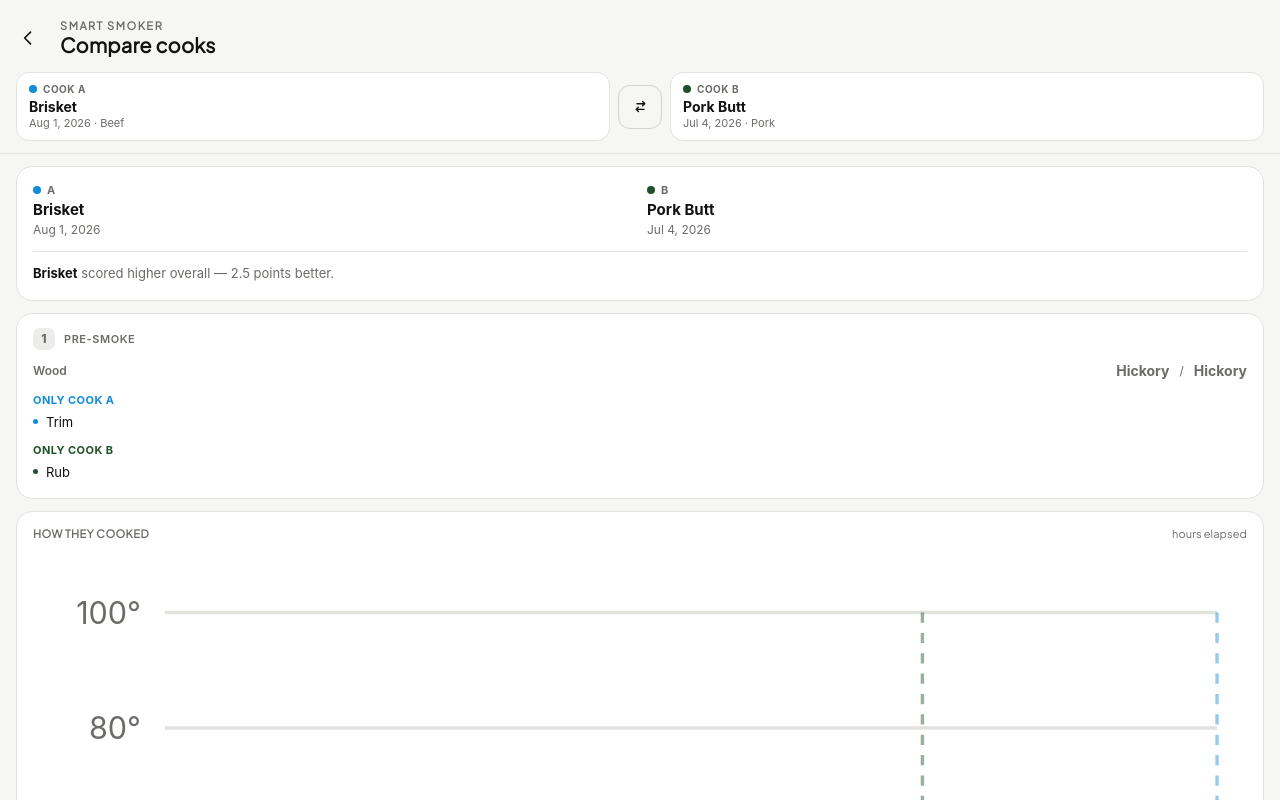
it: CompareScreen › picking the cook already in the slot changes nothing
Expected: the element with test id "compare-summary" is shown, [16,166,1264,300]
Click the button with aria-label "Change cook A" at [60, 89], box [16,72,610,141]
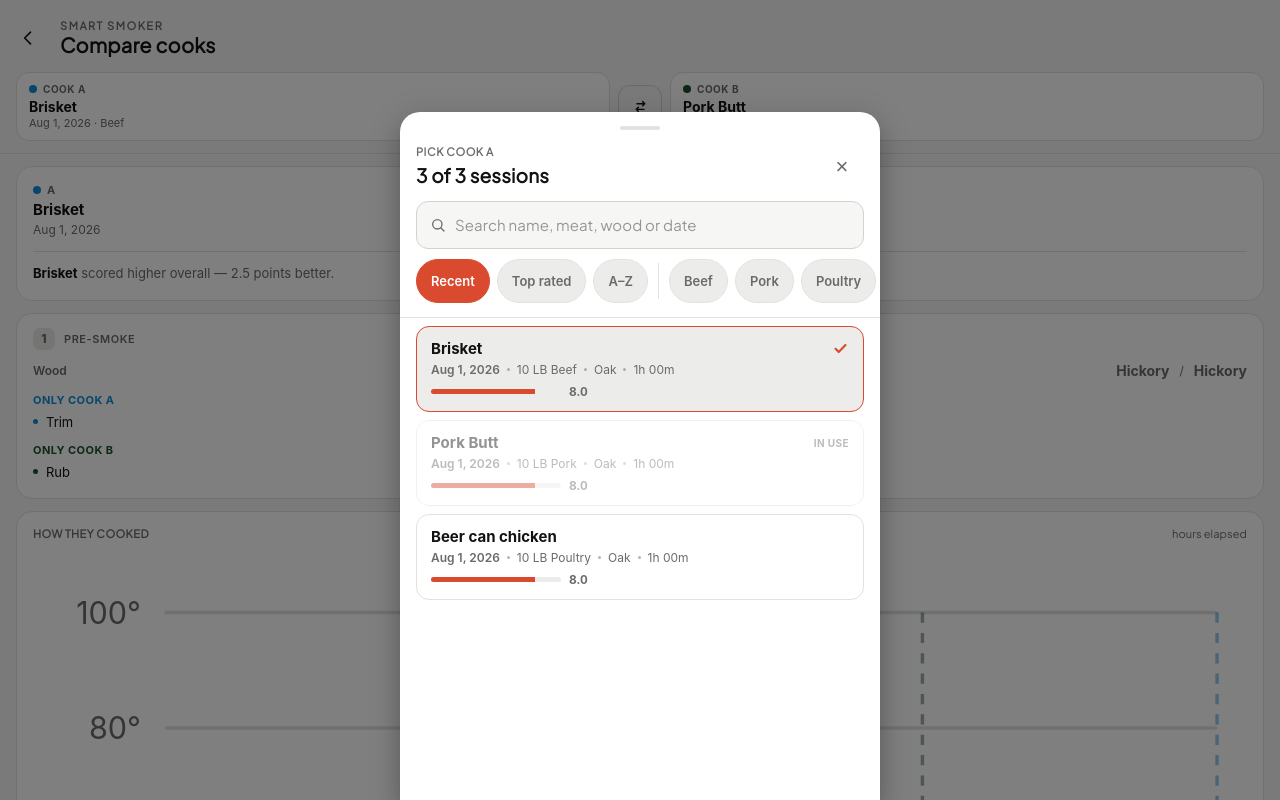
Click the button with aria-label "Pick Brisket" at [640, 369], box [416,326,864,412]
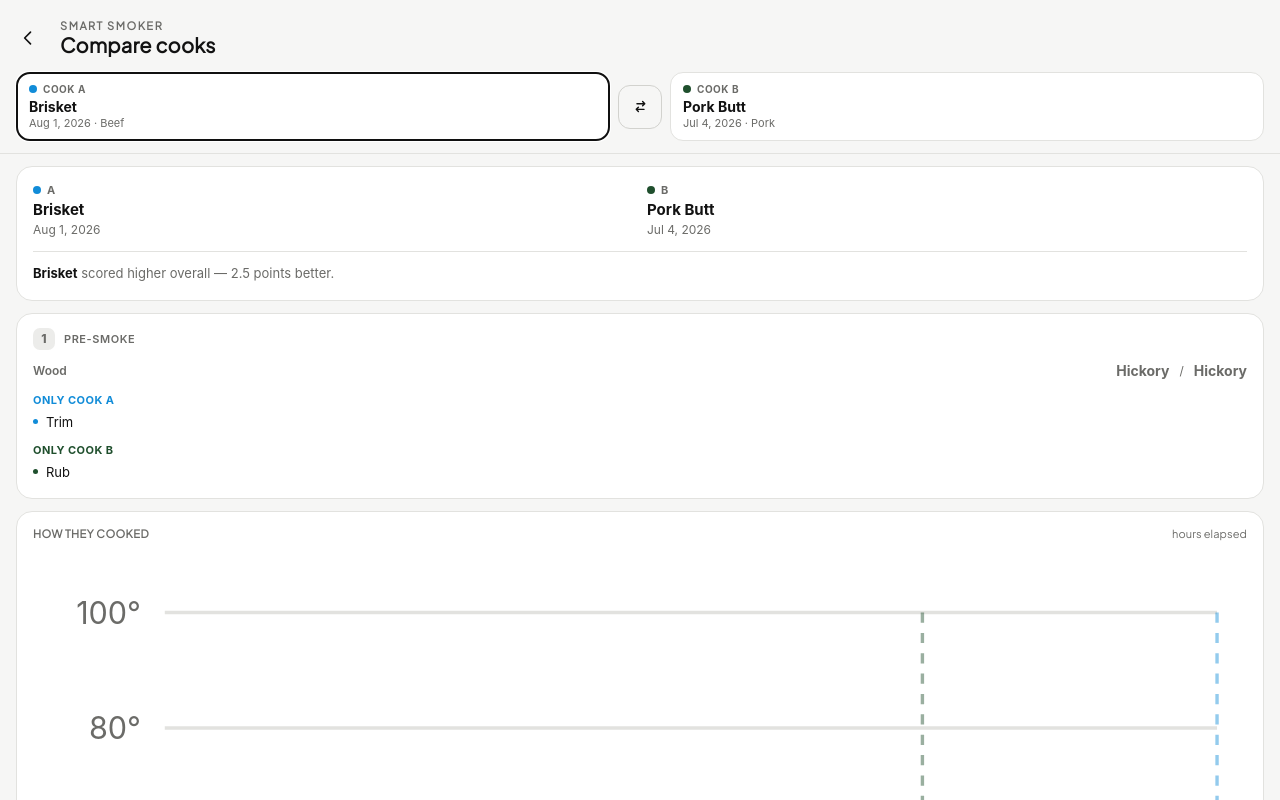
Expected: the button with test id "compare-slot-a" shows "Brisket", [16,72,610,141]
Expected: the dialog with test id "cook-picker" is gone
